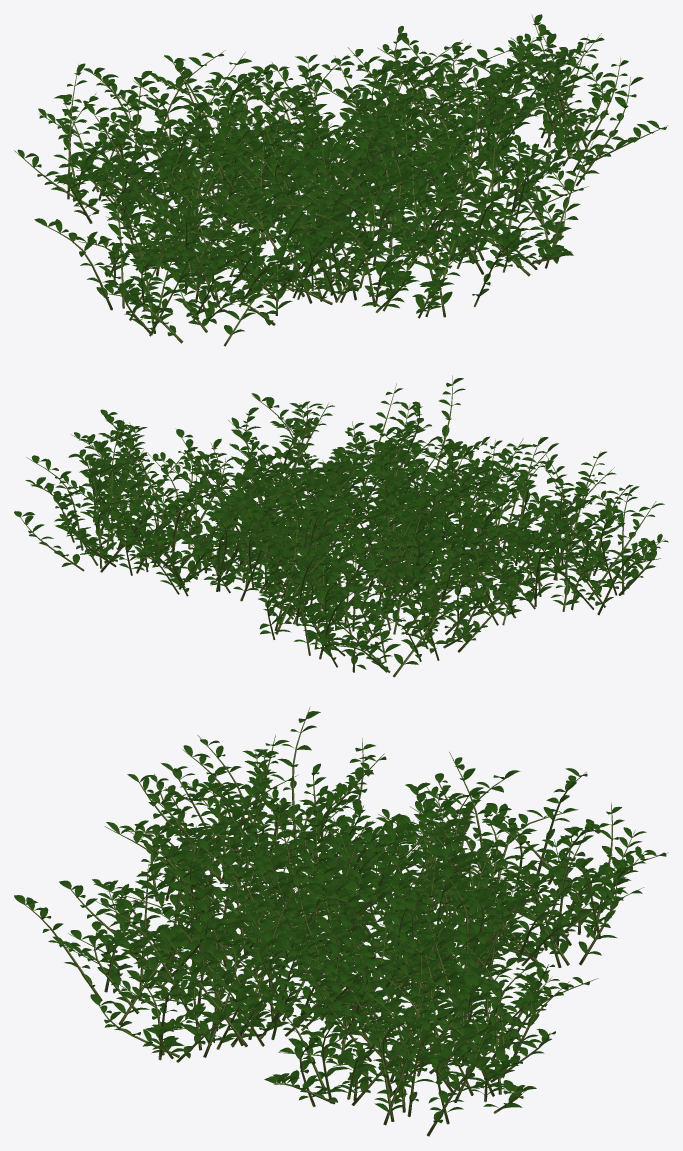
The model's file is plant-moss.glb.
The picture shows the model from 3 angles, top to bottom: view 1: azimuth 30°, elevation 25°; view 2: azimuth 150°, elevation 25°; view 3: azimuth 270°, elevation 25°; orthographic projection. The views are drawn at different scales.
Parts seen in each view (by area): view 1: Aquatic moss · irregular branching mat · export mesh; view 2: Aquatic moss · irregular branching mat · export mesh; view 3: Aquatic moss · irregular branching mat · export mesh.
Boxes of the visible parts, left/top/right/bottom form: Aquatic moss · irregular branching mat · export mesh: left=14, top=14, right=668, bottom=346; Aquatic moss · irregular branching mat · export mesh: left=14, top=375, right=668, bottom=677; Aquatic moss · irregular branching mat · export mesh: left=14, top=706, right=668, bottom=1136.
Bounding box in the file's own units: 0.1068 × 0.0211 × 0.0875.
Materials: 2 (1 with a texture image).
